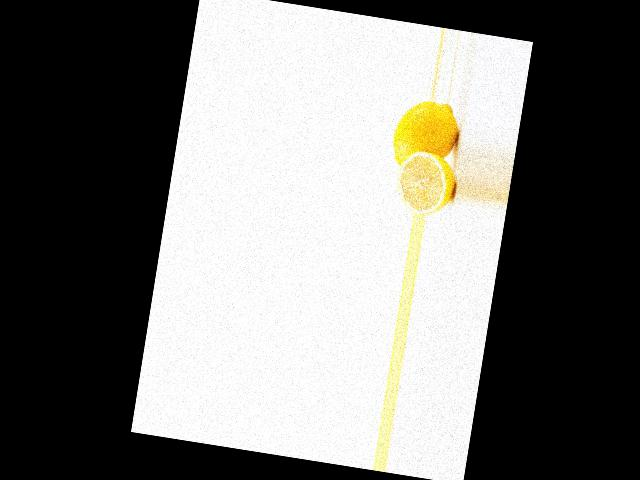lemon: (388, 97, 464, 177)
